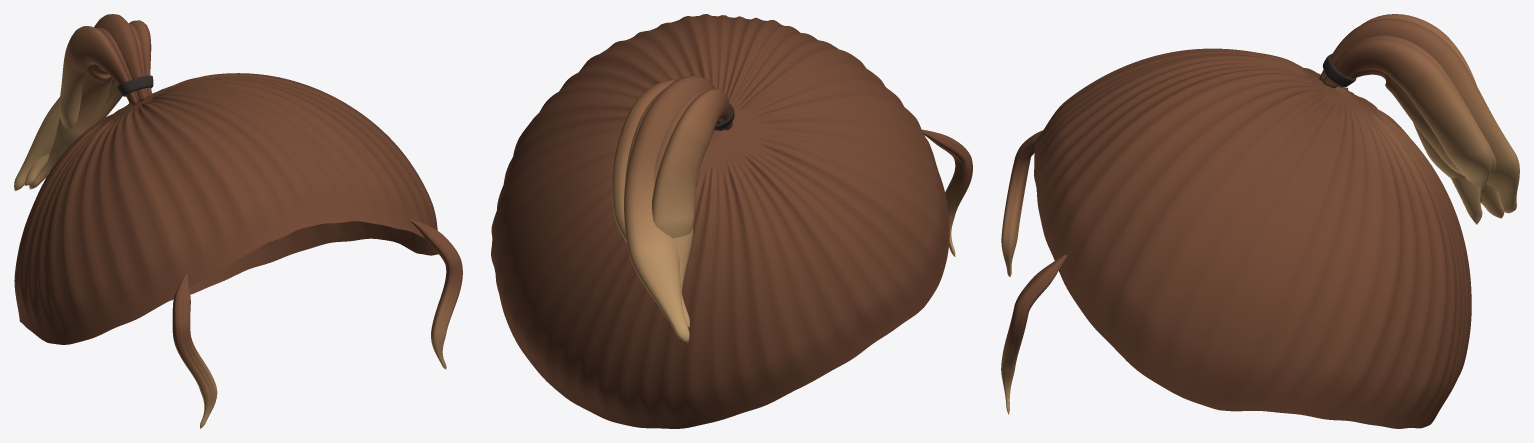
Rendered from ponytail-none-ombre.glb.
3 renders of one model, left to right at view 1: azimuth 30°, elevation 25°; view 2: azimuth 150°, elevation 25°; view 3: azimuth 270°, elevation 25°, orthographic. The views are drawn at different scales.
Visible parts, largest first — view 1: Hair / swept roots220, Hair / rounded tail220 0, Hair / rounded tail220 2, Hair / rounded tail220 1, Hair / adjustable front216 -1, Hair / adjustable front216 1, Hair / rounded tail220 3, Hair / rounded tail220 4, Hair / tie220; view 2: Hair / swept roots220, Hair / rounded tail220 2, Hair / rounded tail220 0, Hair / rounded tail220 4, Hair / adjustable front216 -1, Hair / rounded tail220 1; view 3: Hair / swept roots220, Hair / rounded tail220 4, Hair / rounded tail220 2, Hair / adjustable front216 1, Hair / rounded tail220 3, Hair / adjustable front216 -1, Hair / rounded tail220 0, Hair / rounded tail220 1.
Boxes of the visible parts, x1,y1,x2,y2 form: Hair / swept roots220: [14, 73, 438, 344]; Hair / rounded tail220 0: [59, 26, 137, 128]; Hair / rounded tail220 2: [14, 14, 147, 190]; Hair / rounded tail220 1: [29, 27, 139, 189]; Hair / adjustable front216 -1: [172, 274, 217, 428]; Hair / adjustable front216 1: [410, 219, 462, 369]; Hair / rounded tail220 3: [24, 23, 148, 185]; Hair / rounded tail220 4: [47, 20, 152, 175]; Hair / tie220: [117, 75, 153, 96]; Hair / swept roots220: [491, 14, 949, 428]; Hair / rounded tail220 2: [624, 75, 715, 342]; Hair / rounded tail220 0: [652, 89, 732, 238]; Hair / rounded tail220 4: [612, 79, 676, 242]; Hair / adjustable front216 -1: [922, 129, 972, 256]; Hair / rounded tail220 1: [654, 89, 724, 292]; Hair / swept roots220: [1034, 48, 1471, 428]; Hair / rounded tail220 4: [1322, 39, 1491, 202]; Hair / rounded tail220 2: [1319, 18, 1519, 213]; Hair / adjustable front216 1: [1001, 254, 1066, 414]; Hair / rounded tail220 3: [1324, 35, 1496, 178]; Hair / adjustable front216 -1: [1001, 130, 1042, 276]; Hair / rounded tail220 0: [1361, 14, 1482, 224]; Hair / rounded tail220 1: [1413, 122, 1504, 218].
Bounding box in the file's own units: 0.7726 × 0.6271 × 0.8121.
Materials: 9 (8 with a texture image).
